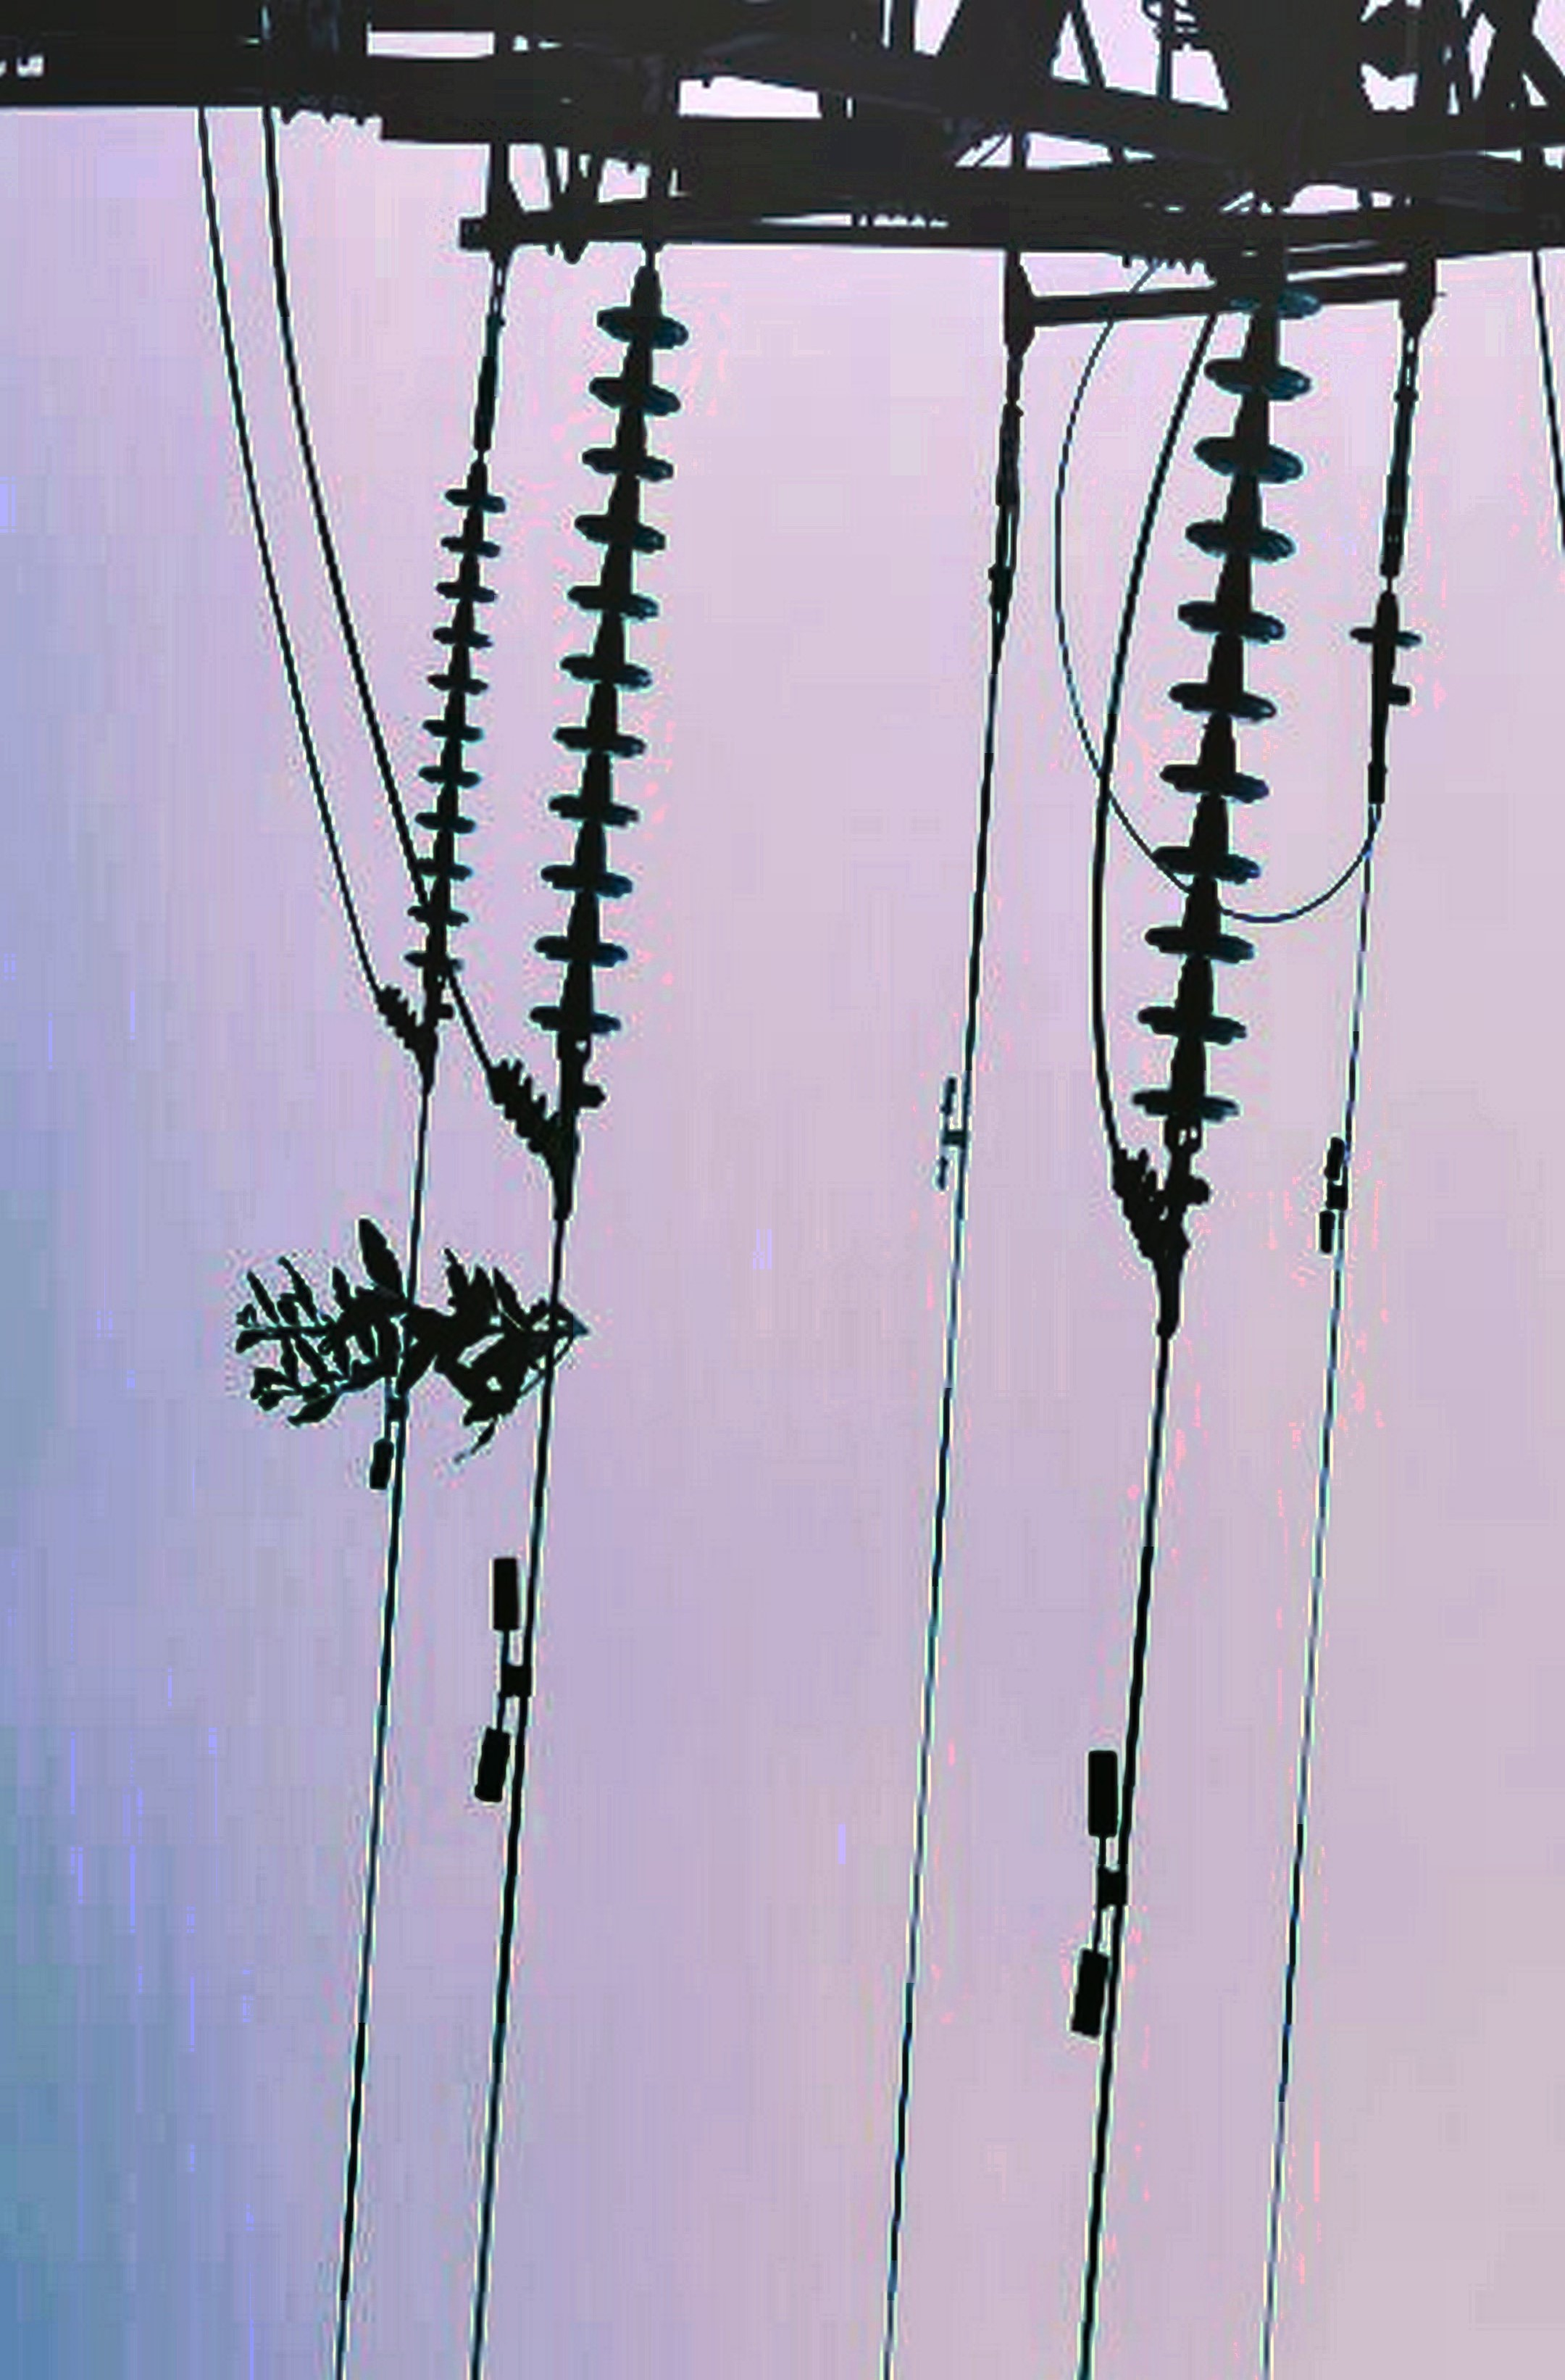wire foreign body: (208, 1179, 596, 1510)
